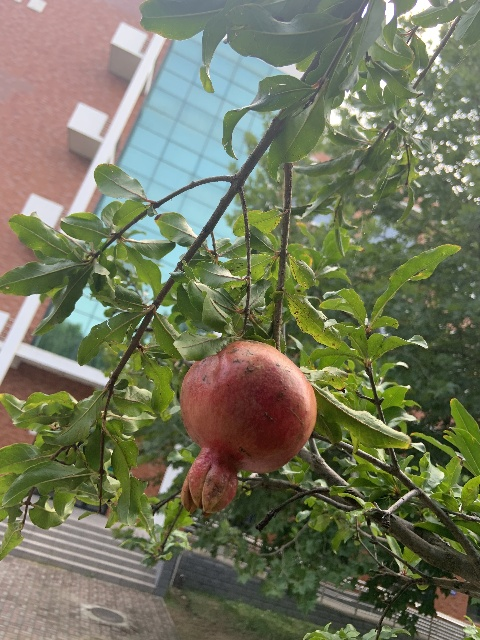ripe: (178, 340, 317, 515)
